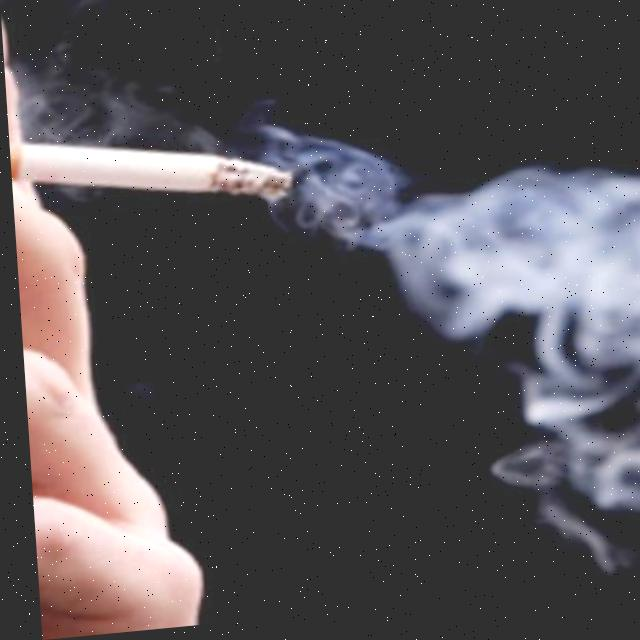cigarette: (8, 122, 290, 228)
